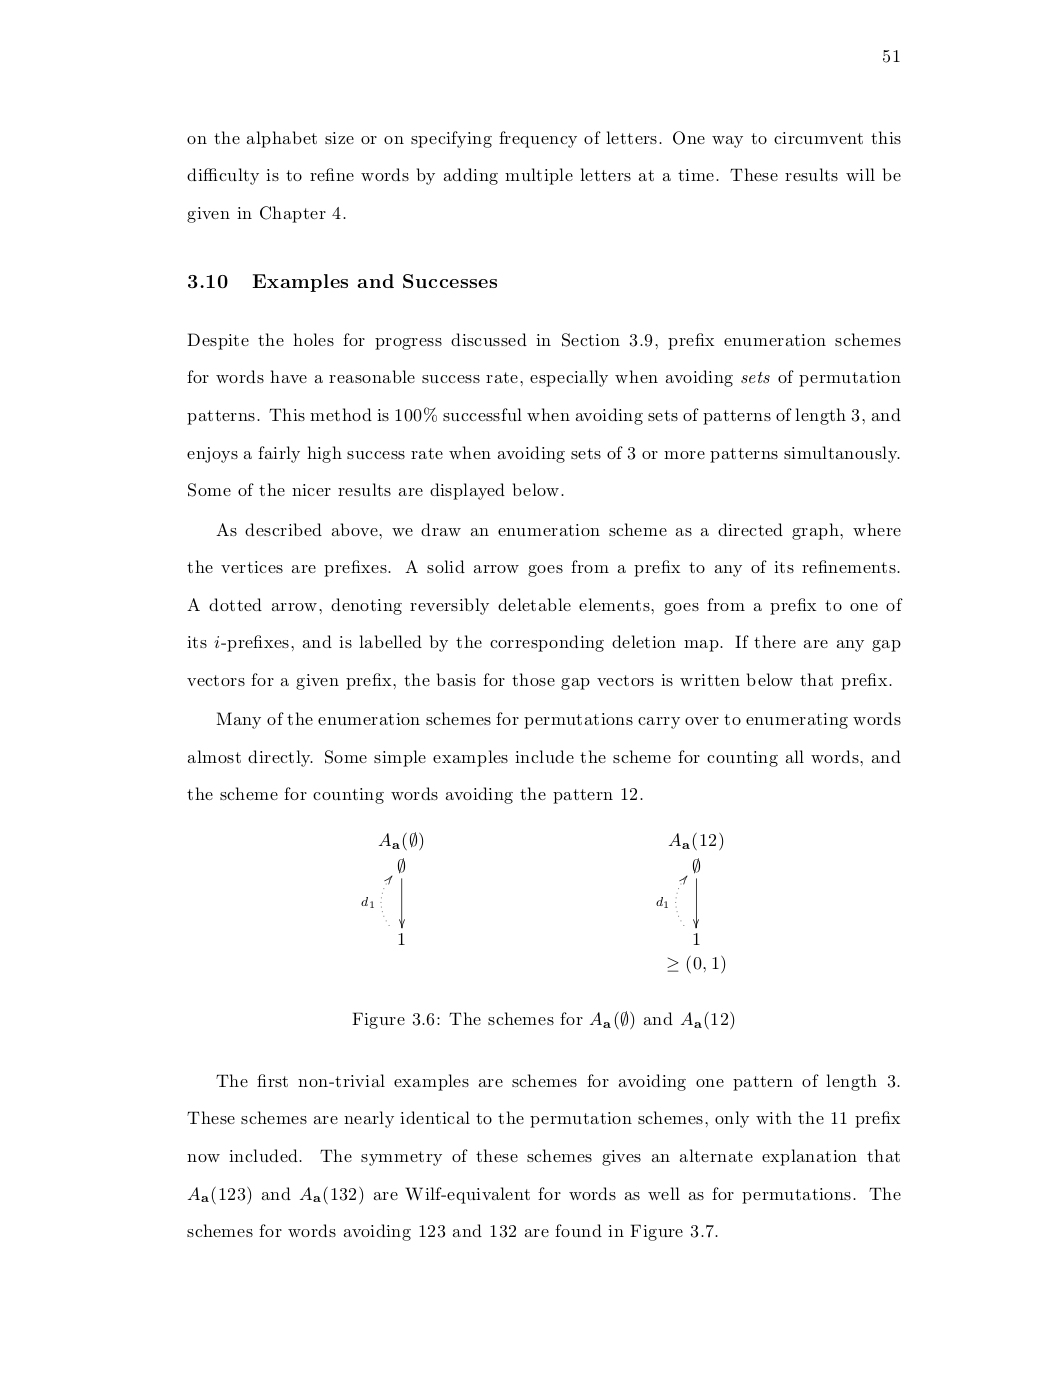figure: (656, 832, 726, 973), (361, 832, 424, 944)
